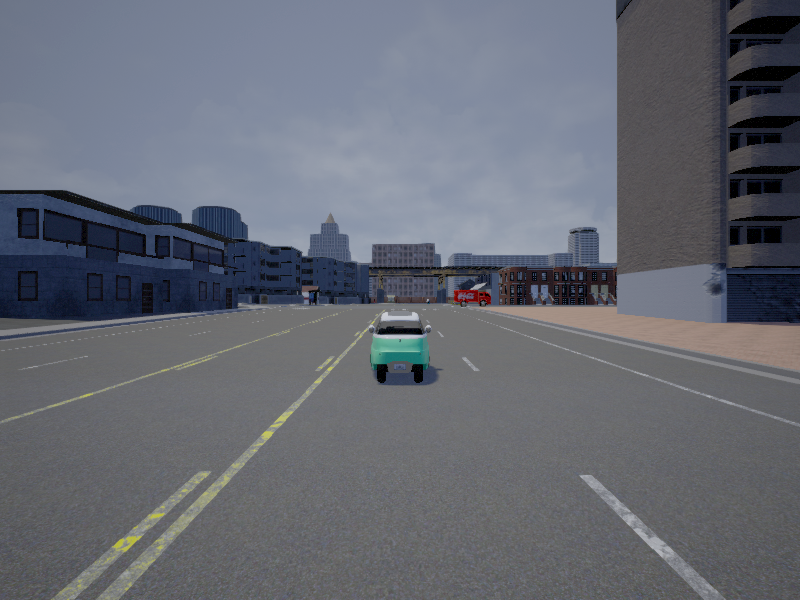Benign: (369, 312, 431, 385), (455, 289, 492, 307)
